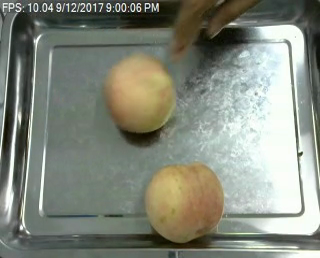Peach: (145, 161, 224, 244), (103, 51, 175, 134)
